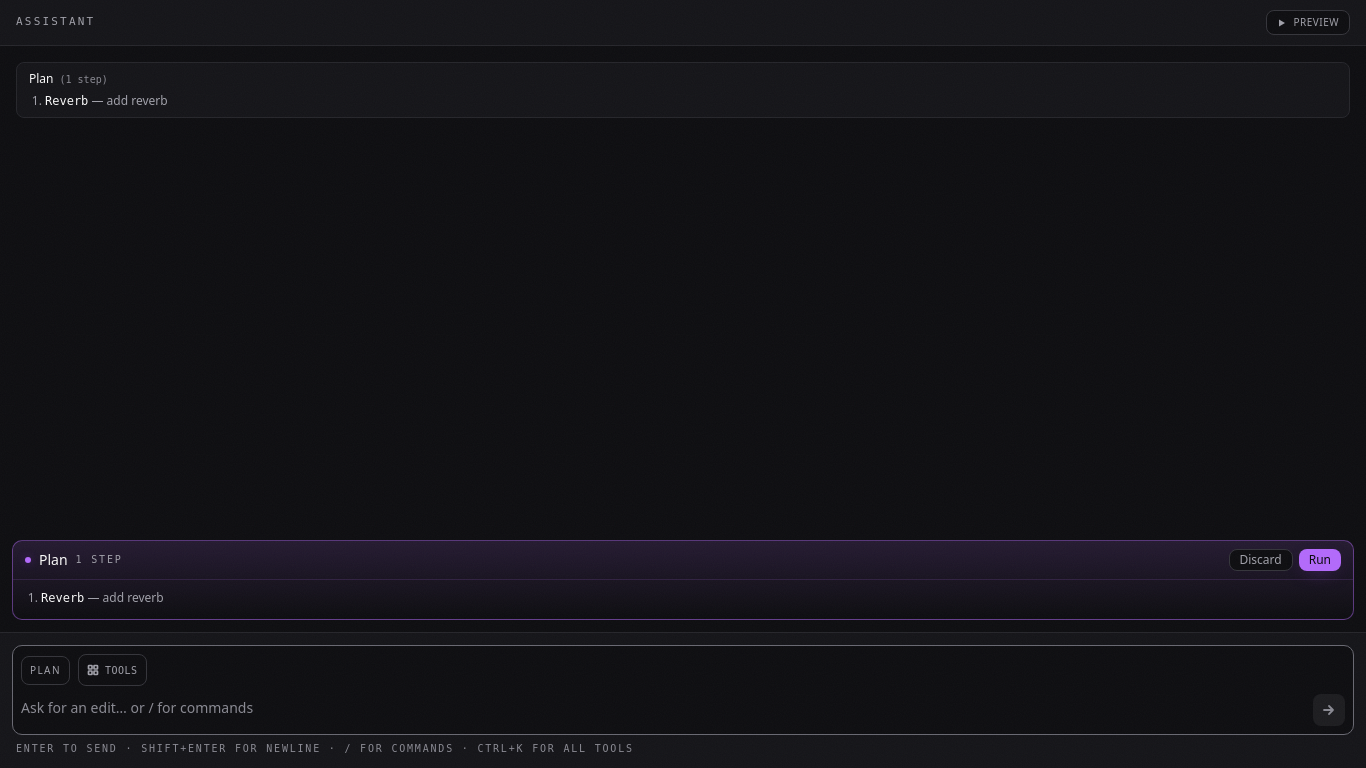
Scenario: PlanCard (inside Chat) › Discard rejects the plan instead of running it
The image size is (1366, 768).
Click the button with test id "plan-discard-button": (1261, 560) [1228,549,1293,571]
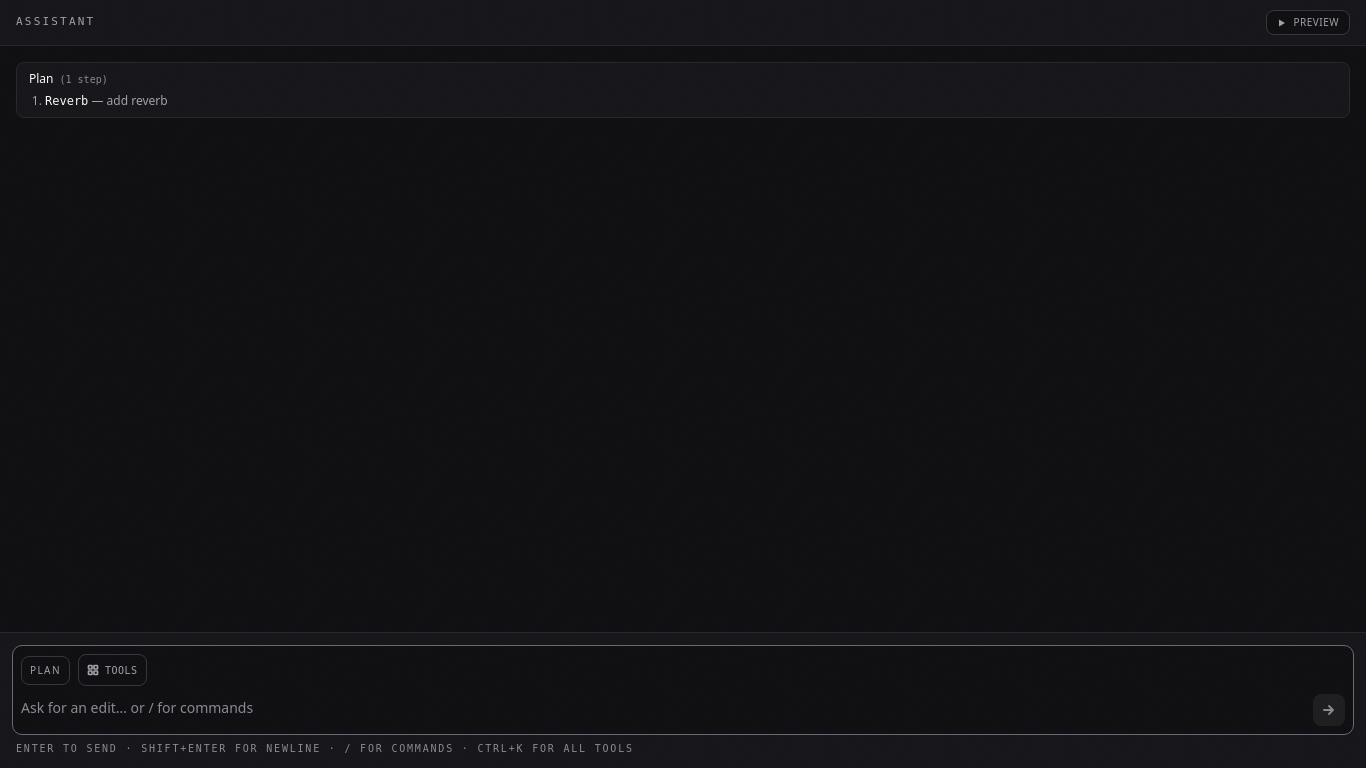
Expected: the element with test id "plan-approval-card" is gone
